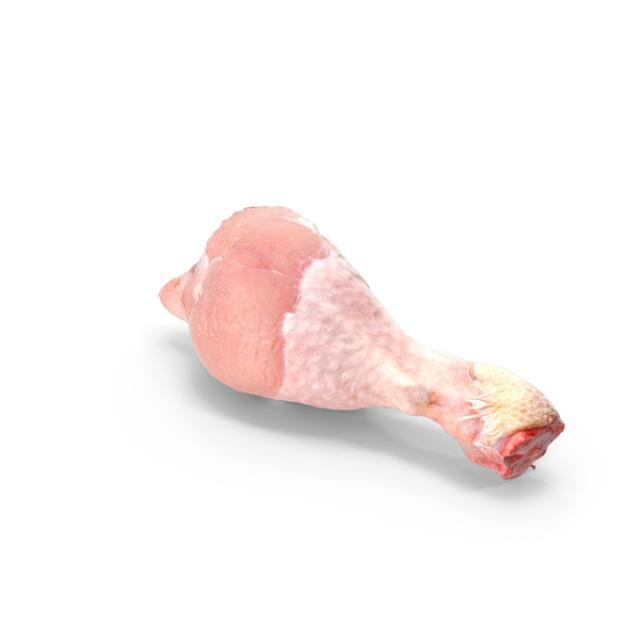leg: (152, 190, 564, 486)
